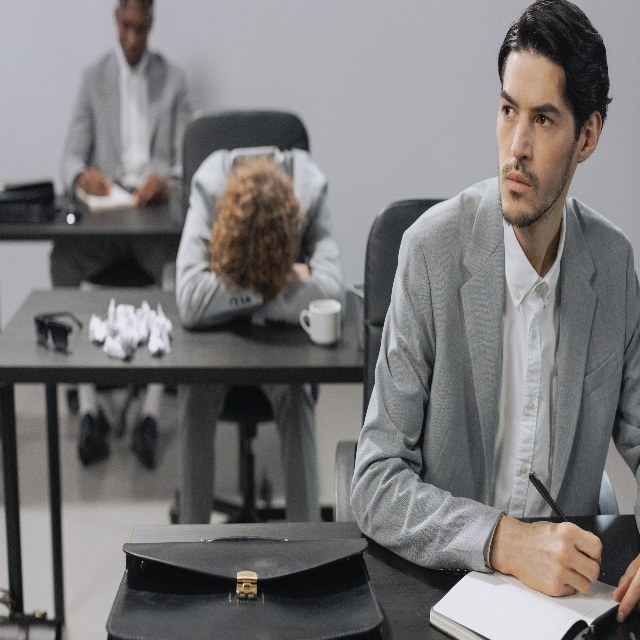Gafas: (35, 310, 81, 348)
Sin_guantes: (513, 521, 603, 596), (612, 550, 640, 623), (134, 174, 168, 203), (78, 168, 111, 196)
